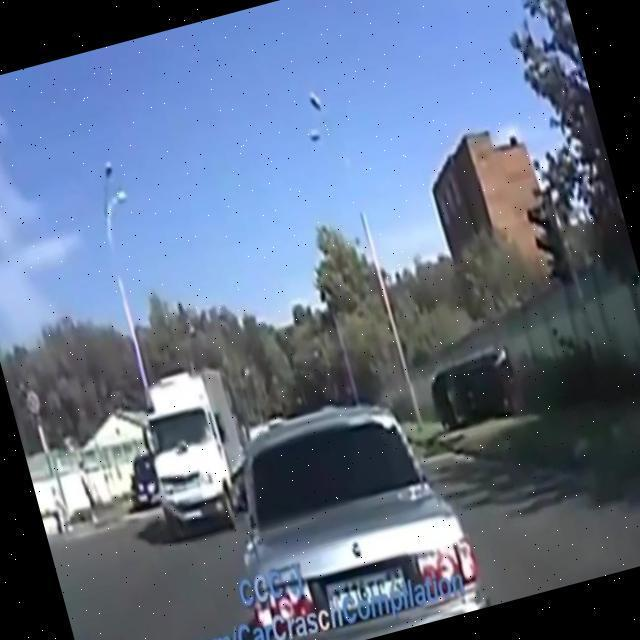accident: (413, 325, 534, 438)
